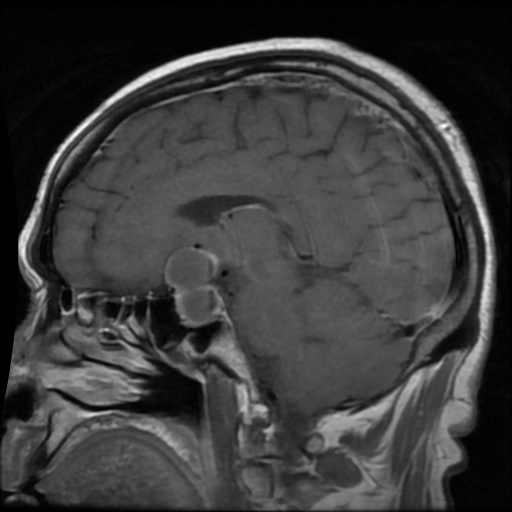pituitary: (164, 246, 224, 326)
